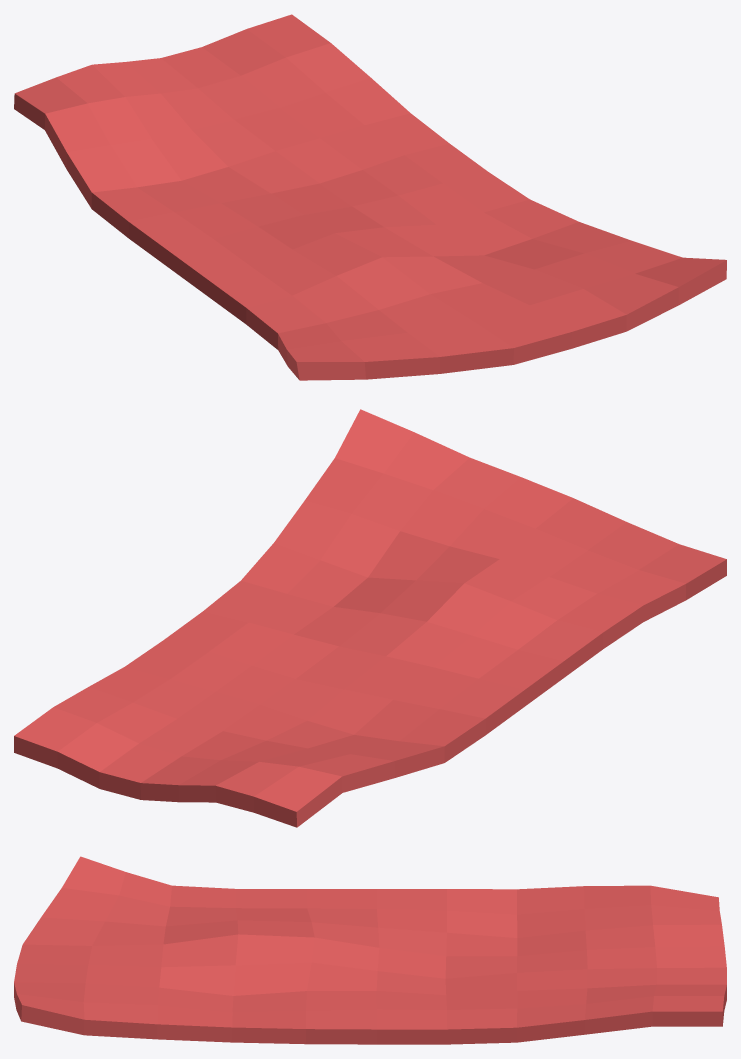
File: bacon.glb
3 renders of one model, top to bottom at view 1: azimuth 30°, elevation 25°; view 2: azimuth 150°, elevation 25°; view 3: azimuth 270°, elevation 25°, orthographic. The views are drawn at different scales.
Parts seen in each view (by area): view 1: Bacon; view 2: Bacon; view 3: Bacon.
Boxes of the visible parts, bbox=[...] form: Bacon: bbox=[14, 14, 726, 380]; Bacon: bbox=[14, 409, 726, 827]; Bacon: bbox=[14, 856, 726, 1044].
Size of the model in its own units: 0.248 by 0.0436 by 0.4286.
